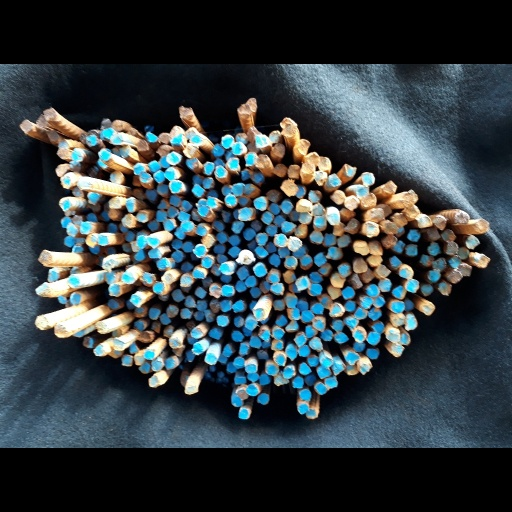dipstick: (279, 179, 299, 197), (401, 189, 418, 208), (380, 220, 399, 235), (361, 192, 377, 209), (391, 212, 408, 228), (45, 128, 61, 144), (344, 218, 360, 234), (34, 314, 50, 330), (353, 240, 370, 255), (329, 272, 346, 287), (345, 195, 360, 211), (330, 190, 346, 205), (369, 208, 385, 223), (385, 327, 400, 343), (286, 237, 302, 252), (120, 213, 136, 228), (109, 169, 125, 184), (254, 134, 271, 148), (365, 221, 379, 238), (325, 246, 342, 260), (139, 272, 156, 286), (285, 343, 298, 361), (246, 126, 261, 141), (296, 139, 311, 154), (305, 152, 320, 167), (382, 180, 397, 195), (376, 203, 391, 218), (475, 253, 490, 268), (368, 241, 383, 256), (352, 258, 367, 273), (308, 337, 323, 352), (239, 250, 254, 265), (281, 124, 297, 138), (314, 170, 328, 186), (404, 205, 420, 219), (447, 270, 463, 284), (389, 343, 405, 357), (327, 303, 343, 317), (311, 203, 327, 217), (281, 221, 297, 235), (286, 307, 302, 321), (253, 262, 267, 278), (165, 151, 181, 165), (405, 314, 418, 331), (295, 199, 312, 212), (19, 119, 33, 134), (232, 142, 247, 156), (271, 144, 286, 158), (432, 215, 447, 229), (455, 210, 470, 224), (465, 235, 480, 249), (388, 256, 403, 270), (391, 313, 406, 327), (352, 328, 367, 342), (317, 263, 332, 277), (319, 294, 334, 308), (316, 365, 331, 379), (253, 196, 268, 210), (295, 277, 309, 292), (274, 373, 289, 387), (180, 274, 195, 288), (130, 293, 145, 307), (37, 250, 51, 265), (254, 155, 270, 168), (326, 174, 342, 187), (404, 279, 420, 292), (327, 209, 340, 225), (312, 216, 328, 229), (34, 283, 50, 296), (124, 196, 137, 212), (287, 164, 301, 178), (244, 152, 258, 166), (360, 171, 374, 185), (458, 263, 472, 277), (419, 253, 433, 267), (360, 269, 374, 283), (310, 230, 324, 244), (294, 225, 308, 239), (279, 200, 293, 214), (313, 252, 327, 266), (331, 362, 345, 376), (312, 318, 326, 332), (226, 158, 240, 172), (301, 310, 315, 324), (238, 207, 252, 221), (236, 267, 250, 281), (53, 324, 67, 338), (132, 162, 146, 176), (56, 147, 71, 160), (221, 134, 234, 149), (318, 156, 331, 171), (272, 164, 287, 177), (443, 242, 458, 255), (441, 230, 456, 243), (407, 228, 420, 243), (399, 266, 414, 279), (392, 286, 407, 299), (371, 295, 386, 308), (377, 279, 392, 292), (331, 221, 344, 236), (344, 316, 359, 329), (345, 352, 360, 365), (338, 263, 351, 278), (202, 161, 215, 176), (243, 183, 256, 198), (269, 283, 284, 296), (242, 228, 257, 241), (193, 245, 208, 258), (381, 235, 397, 247), (423, 301, 435, 317), (350, 273, 362, 289), (321, 234, 337, 246), (297, 212, 313, 224), (167, 181, 183, 193), (156, 145, 172, 157), (279, 117, 296, 128), (179, 106, 193, 119), (433, 258, 447, 271), (427, 270, 441, 283), (421, 283, 434, 297), (367, 308, 381, 321), (371, 321, 385, 334), (367, 332, 380, 346), (341, 286, 355, 299), (293, 185, 306, 199), (328, 285, 341, 299), (324, 376, 338, 389), (299, 256, 313, 269), (292, 246, 306, 259), (266, 203, 280, 216), (266, 190, 280, 203), (211, 143, 224, 157), (183, 144, 197, 157), (230, 183, 244, 196), (261, 211, 274, 225), (284, 256, 298, 269), (294, 333, 307, 347), (235, 388, 249, 401), (224, 194, 237, 208), (208, 285, 222, 298), (231, 299, 245, 312), (252, 307, 266, 320), (196, 204, 210, 217), (220, 262, 234, 275), (164, 167, 177, 181), (165, 305, 179, 318), (121, 271, 135, 284), (59, 198, 72, 212), (60, 175, 73, 189), (97, 148, 111, 161), (139, 170, 153, 183), (344, 163, 356, 178), (426, 229, 441, 241), (376, 266, 391, 278), (365, 284, 380, 296), (353, 307, 368, 319), (314, 382, 329, 394), (307, 284, 322, 296), (191, 268, 206, 280), (139, 330, 154, 342), (101, 257, 116, 269), (76, 177, 91, 189), (367, 255, 383, 266), (339, 208, 355, 219), (86, 192, 102, 203), (43, 108, 56, 121), (109, 132, 122, 145), (268, 130, 281, 143), (235, 132, 248, 145), (476, 219, 489, 232), (337, 234, 350, 247), (360, 296, 373, 309), (275, 234, 288, 247), (283, 271, 296, 284), (285, 295, 298, 308), (297, 344, 310, 357), (255, 232, 268, 245), (221, 285, 234, 298), (249, 336, 262, 349), (191, 184, 204, 197), (219, 300, 232, 313), (201, 235, 214, 248), (171, 289, 184, 302), (163, 357, 176, 370), (147, 235, 160, 248), (67, 275, 80, 288), (79, 221, 92, 234), (355, 186, 369, 198), (418, 215, 432, 227), (427, 243, 441, 255), (439, 282, 451, 296), (391, 301, 405, 313), (285, 320, 299, 332), (271, 340, 285, 352), (254, 246, 268, 258), (204, 353, 218, 365), (180, 220, 194, 232), (173, 227, 187, 239), (160, 273, 174, 285), (135, 211, 149, 223), (92, 344, 106, 356), (94, 322, 108, 334), (85, 234, 97, 248), (266, 273, 281, 284), (178, 201, 193, 212), (246, 98, 258, 111), (84, 134, 97, 146), (111, 119, 124, 131), (145, 130, 158, 142), (157, 131, 170, 143), (189, 134, 202, 146), (449, 256, 462, 268), (405, 244, 418, 256), (392, 241, 405, 253), (331, 320, 344, 332), (321, 328, 333, 341), (304, 374, 317, 386), (251, 173, 264, 185), (214, 166, 227, 178), (291, 376, 304, 388), (299, 389, 311, 402), (257, 393, 270, 405), (246, 384, 259, 396), (271, 327, 284, 339), (269, 254, 281, 267), (234, 280, 247, 292), (231, 330, 244, 342), (215, 232, 228, 244), (216, 315, 229, 327), (208, 327, 221, 339), (191, 343, 204, 355), (195, 300, 208, 312), (201, 256, 214, 268), (190, 209, 202, 222), (172, 345, 185, 357), (147, 375, 160, 387), (121, 355, 134, 367), (156, 258, 169, 270), (154, 170, 166, 183), (148, 307, 160, 320), (112, 338, 125, 350), (108, 284, 121, 296), (104, 272, 117, 284), (47, 270, 60, 282), (56, 164, 68, 177), (119, 145, 131, 158), (301, 163, 315, 174), (365, 348, 379, 359), (345, 364, 359, 375), (309, 272, 323, 283), (259, 280, 270, 294), (227, 234, 241, 245), (171, 251, 185, 262), (150, 360, 164, 371), (147, 160, 161, 171), (334, 333, 349, 343), (457, 247, 469, 259), (308, 190, 320, 202), (311, 303, 323, 315), (297, 300, 309, 312), (238, 408, 250, 420), (250, 220, 262, 232), (245, 276, 257, 288), (233, 356, 245, 368), (202, 177, 214, 189), (212, 220, 224, 232), (194, 287, 206, 299), (184, 296, 196, 308), (169, 336, 181, 348), (138, 362, 150, 374), (128, 343, 140, 355), (159, 312, 171, 324), (152, 281, 164, 293), (72, 186, 84, 198), (238, 104, 251, 115), (35, 115, 48, 126), (343, 301, 356, 312), (358, 361, 369, 374), (320, 357, 333, 368), (272, 216, 285, 227), (240, 169, 251, 182), (265, 225, 278, 236), (288, 282, 301, 293), (238, 195, 251, 206), (245, 319, 258, 330), (238, 343, 249, 356), (228, 246, 241, 257), (231, 222, 244, 233), (222, 344, 233, 357), (148, 247, 161, 258), (162, 219, 175, 230), (136, 236, 147, 249), (133, 250, 146, 261), (134, 320, 147, 331), (204, 308, 214, 322), (184, 385, 198, 395), (180, 374, 190, 388), (108, 198, 122, 208), (399, 333, 410, 345), (353, 341, 365, 352), (299, 363, 311, 374), (275, 354, 287, 365), (266, 364, 278, 375), (275, 315, 286, 327), (265, 242, 277, 253), (221, 184, 232, 196), (259, 329, 270, 341), (233, 316, 245, 327), (257, 349, 269, 360), (227, 362, 238, 374), (195, 225, 207, 236), (216, 253, 228, 264), (190, 327, 202, 338), (180, 308, 192, 319), (186, 350, 197, 362), (143, 349, 155, 360), (155, 210, 167, 221), (159, 156, 170, 168), (134, 307, 146, 318), (69, 293, 81, 304), (66, 225, 78, 236), (69, 161, 81, 172), (247, 143, 260, 153), (224, 150, 237, 160), (272, 300, 285, 310), (244, 363, 257, 373), (213, 244, 226, 254), (177, 211, 190, 221), (180, 242, 193, 252), (180, 262, 193, 272), (123, 231, 136, 241), (219, 274, 233, 283), (101, 128, 112, 139), (231, 396, 242, 407), (250, 287, 261, 298), (171, 239, 182, 250), (134, 355, 145, 366), (163, 327, 174, 338), (157, 184, 168, 195), (83, 337, 94, 348), (64, 236, 75, 247), (170, 134, 182, 144), (186, 126, 198, 136), (186, 159, 198, 169), (278, 247, 290, 257), (307, 356, 319, 366), (297, 404, 309, 414), (305, 409, 317, 419), (221, 210, 231, 222), (206, 196, 216, 208), (210, 263, 220, 275), (169, 196, 181, 206), (104, 246, 116, 256), (107, 209, 119, 219), (96, 158, 108, 168), (70, 151, 83, 160), (170, 125, 183, 134), (247, 372, 260, 381), (395, 226, 405, 237), (260, 374, 270, 385), (283, 367, 293, 378), (217, 353, 227, 364), (209, 301, 219, 312), (167, 206, 178, 216), (146, 190, 157, 200), (151, 323, 161, 334), (108, 299, 119, 309), (98, 234, 108, 245), (61, 218, 72, 228), (130, 241, 140, 252), (122, 243, 132, 254), (57, 139, 69, 148), (157, 200, 169, 209), (89, 246, 101, 255), (233, 376, 246, 384), (100, 211, 110, 221), (107, 223, 117, 233), (405, 300, 414, 311), (202, 278, 213, 287), (86, 213, 97, 222), (72, 215, 83, 224), (213, 159, 225, 167), (71, 246, 84, 253), (248, 240, 257, 250), (192, 175, 202, 184), (148, 221, 158, 230), (193, 312, 204, 320), (111, 329, 122, 337), (249, 301, 258, 310), (243, 327, 252, 336), (58, 295, 67, 304), (119, 224, 129, 232), (187, 337, 198, 344), (90, 204, 101, 211), (291, 211, 299, 220), (196, 200, 208, 206), (75, 237, 84, 245), (111, 147, 120, 155), (74, 329, 84, 336), (261, 341, 270, 348)
